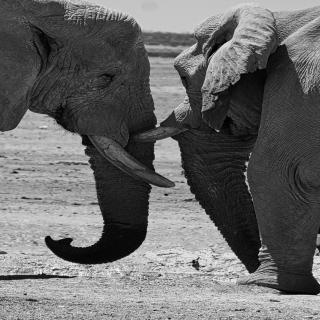Elephant: (151, 0, 320, 320), (0, 0, 177, 273)
